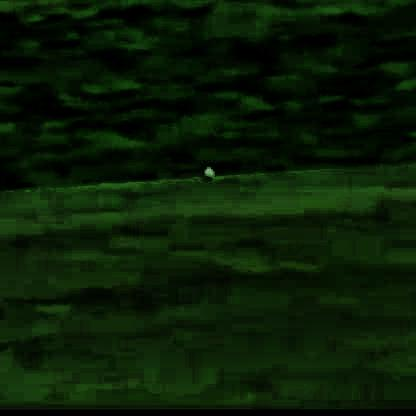golfball: (199, 165, 215, 176)
